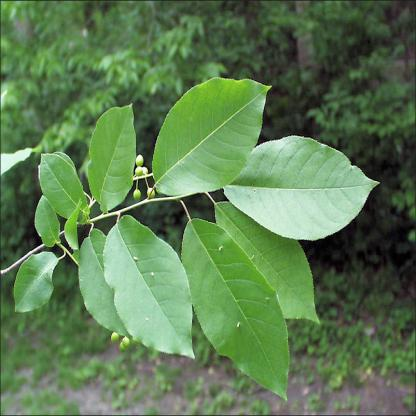cherry leaf: (177, 214, 320, 408), (224, 137, 380, 240), (151, 74, 274, 202), (107, 218, 205, 373), (72, 222, 134, 361), (85, 100, 144, 216), (37, 142, 99, 228), (9, 247, 67, 322), (29, 194, 69, 254)
